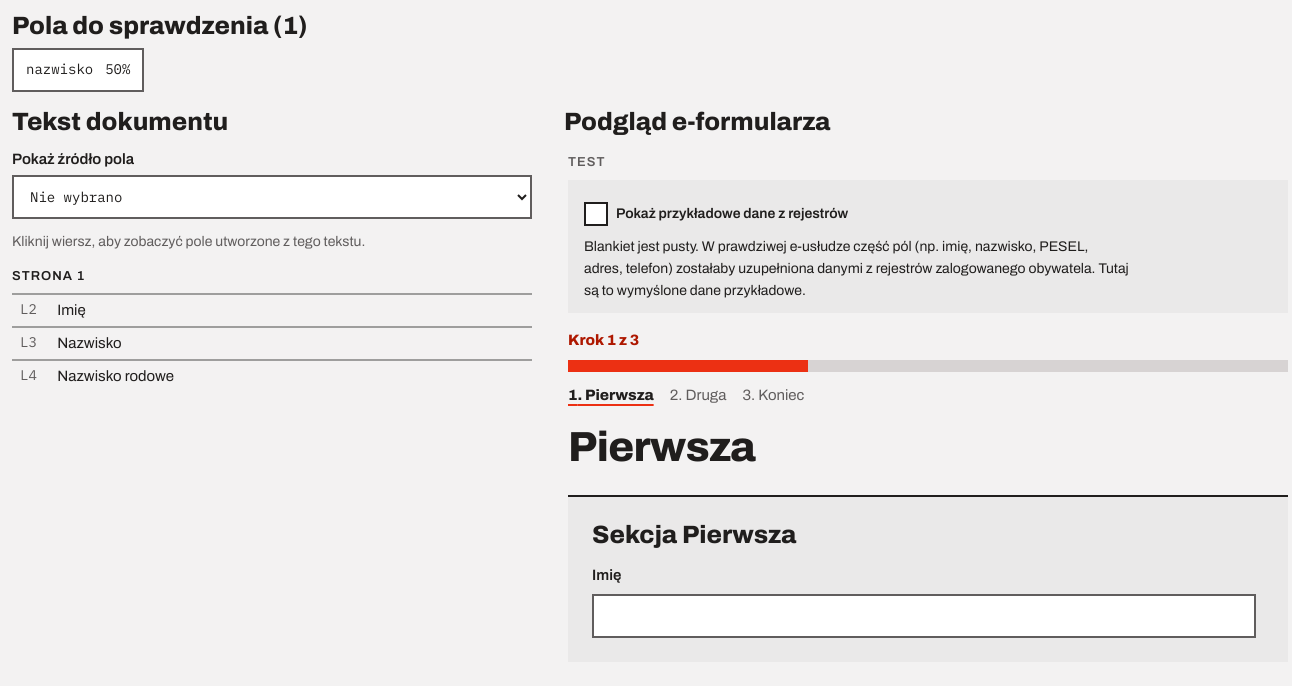
Test: CompareView › lists low-confidence fields and jumps to the field on another step
expect the heading "Pola do sprawdzenia (1)" is shown: met, box [12,12,307,39]
Click the button "nazwisko 50%" at (78, 70), box [12,48,144,92]
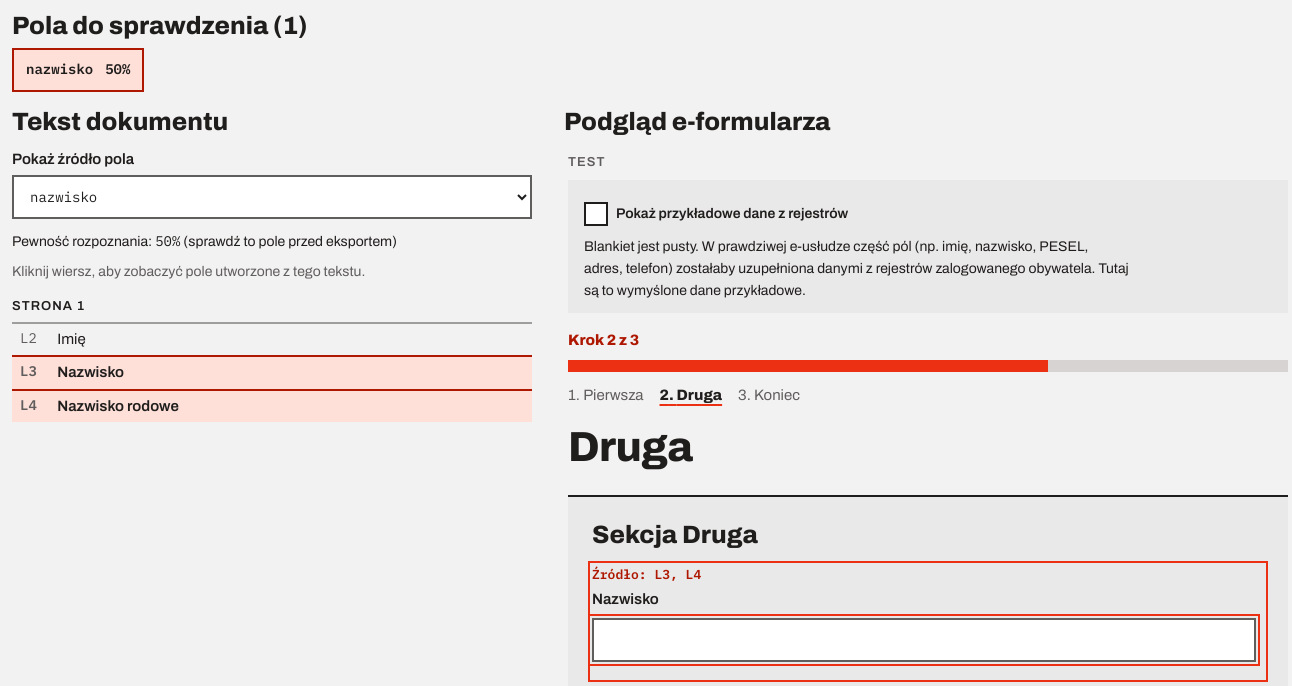
expect the text "Źródło: L3, L4" is shown: met, box [592,566,701,583]
